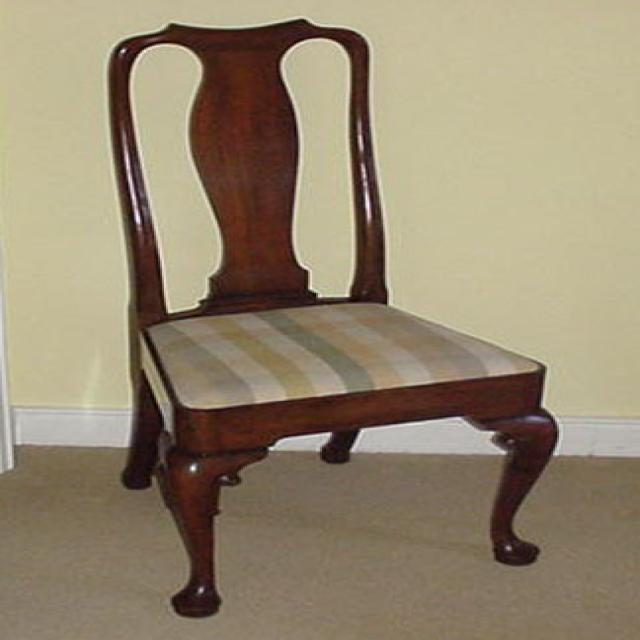chair: (108, 18, 562, 620)
